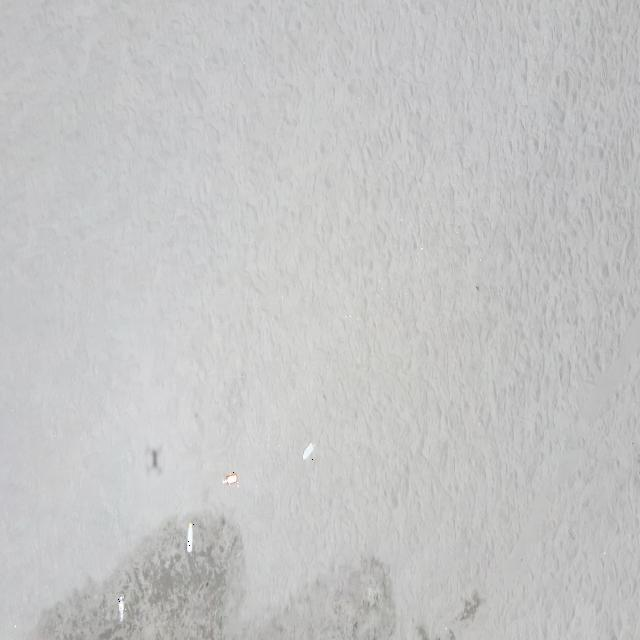Garbage: (116, 595, 123, 622), (186, 522, 192, 552), (224, 472, 238, 484), (303, 443, 313, 459)
